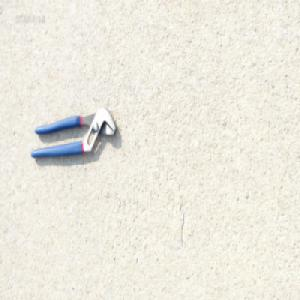Pliers: (29, 104, 117, 161)
